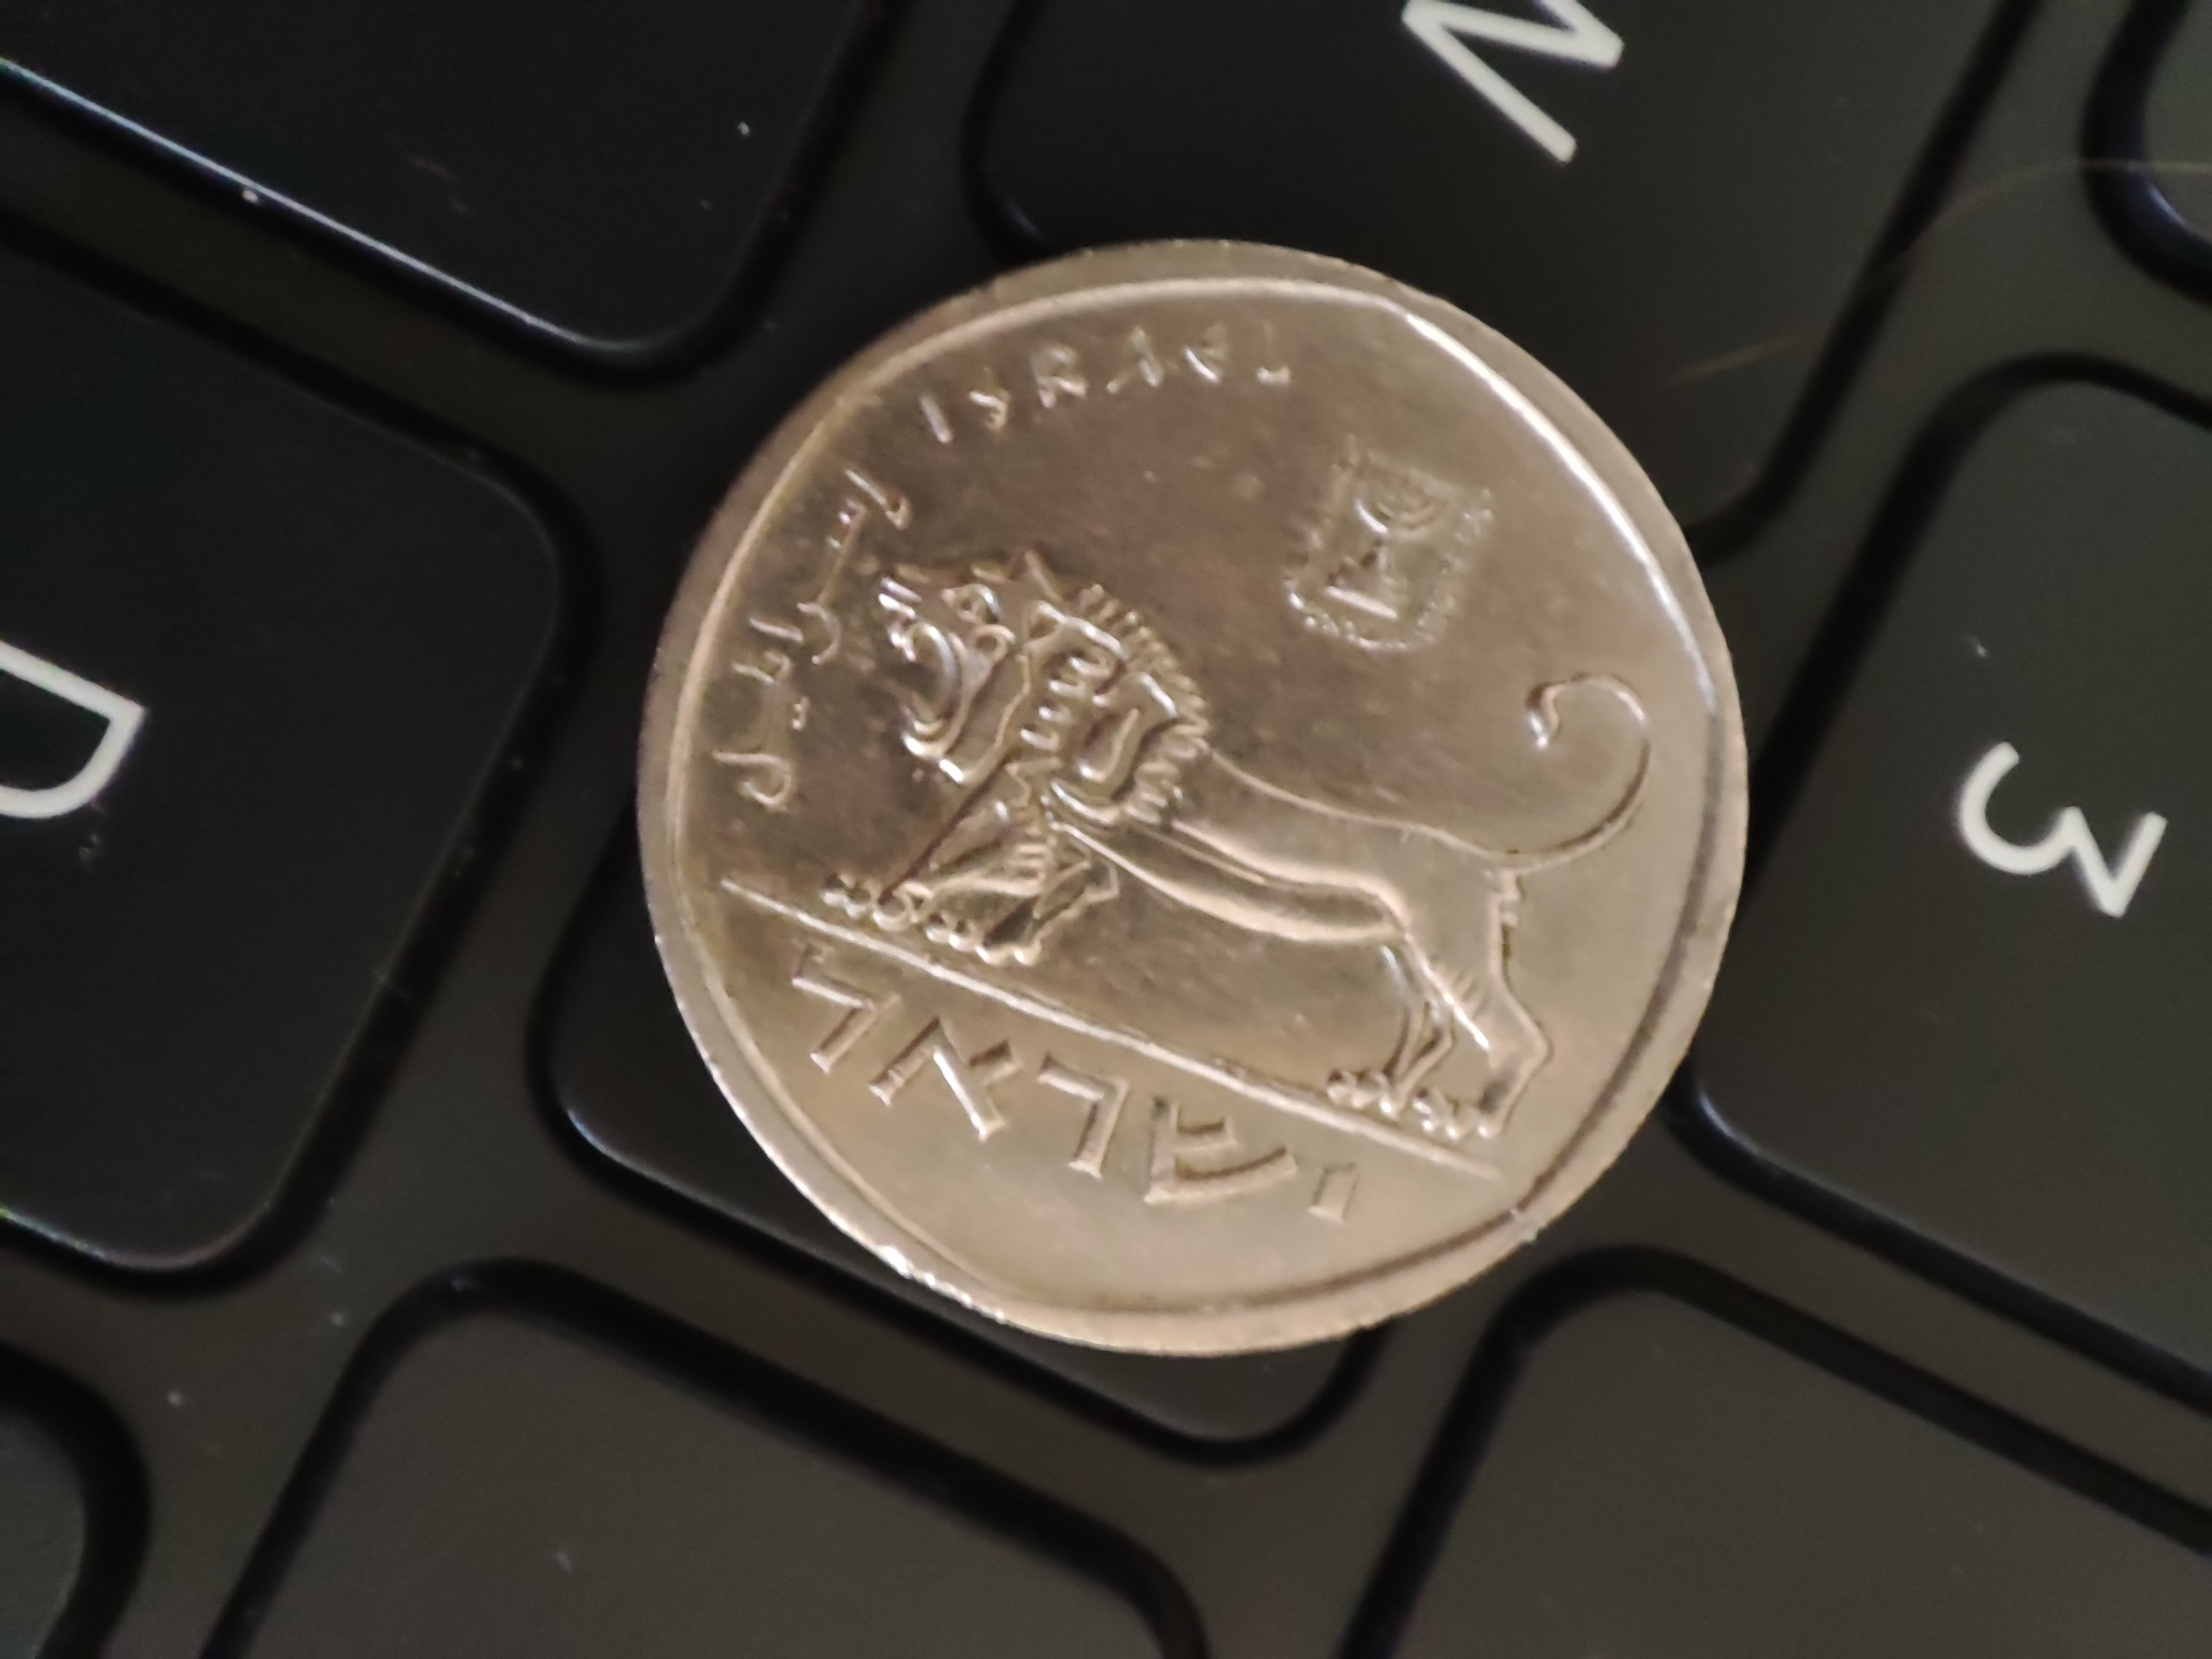1/2 old sheqel: (632, 230, 1757, 1361)
